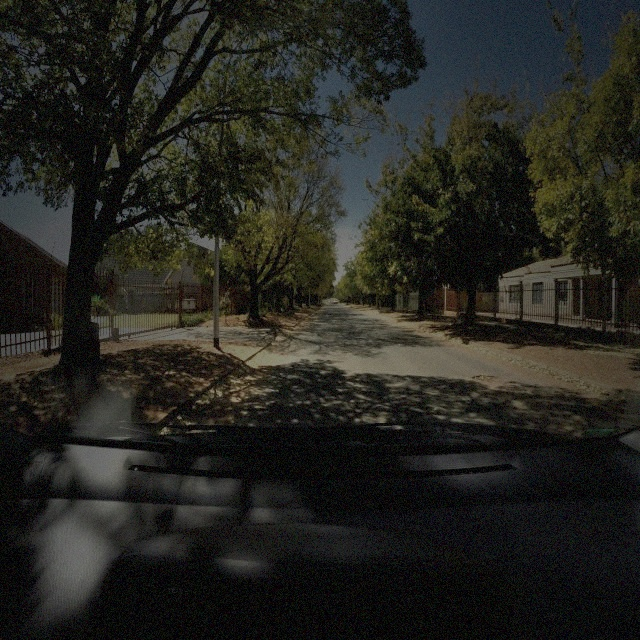pothole: (472, 373, 502, 387)
